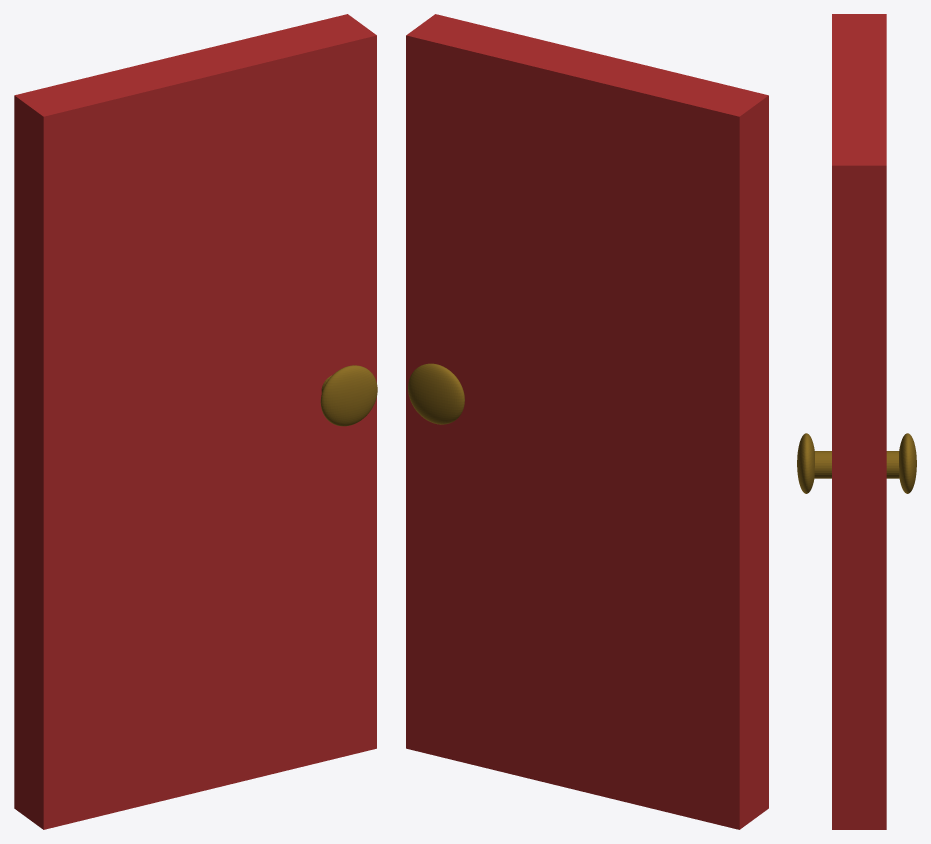
Rendered from door.fbx.
3 views of the same model, side by side, from view 1: azimuth 30°, elevation 25°; view 2: azimuth 150°, elevation 25°; view 3: azimuth 270°, elevation 25° (orthographic). The views are drawn at different scales.
Parts seen in each view (by area): view 1: Sphere; view 2: Sphere; view 3: Sphere.
Part boxes in pixels (<box>): Sphere: <box>14,14,377,829</box>; Sphere: <box>406,14,768,829</box>; Sphere: <box>797,14,916,829</box>.
Bounding box in the file's own units: 252 × 516 × 84.36.
